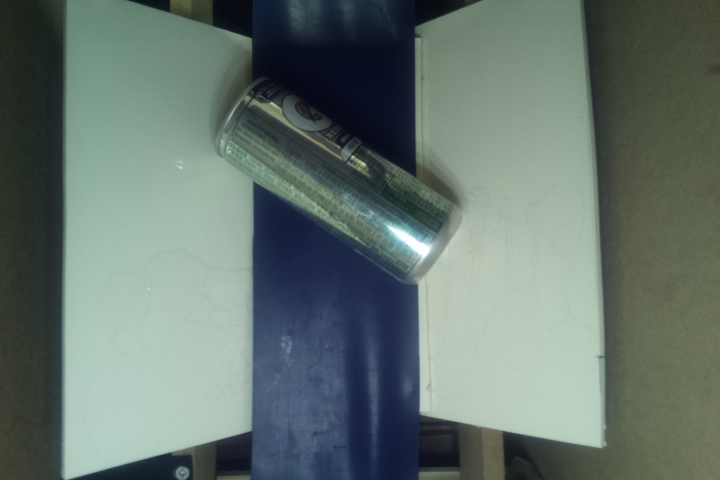can: (216, 72, 467, 287)
